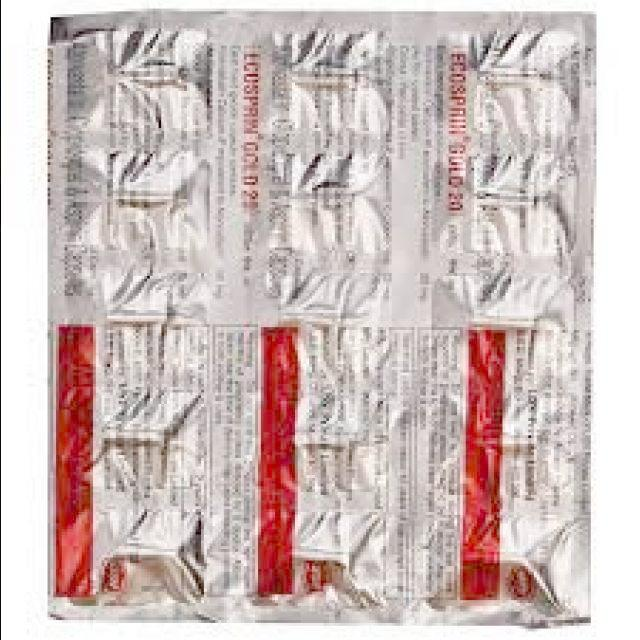authentic: (40, 4, 600, 640)
